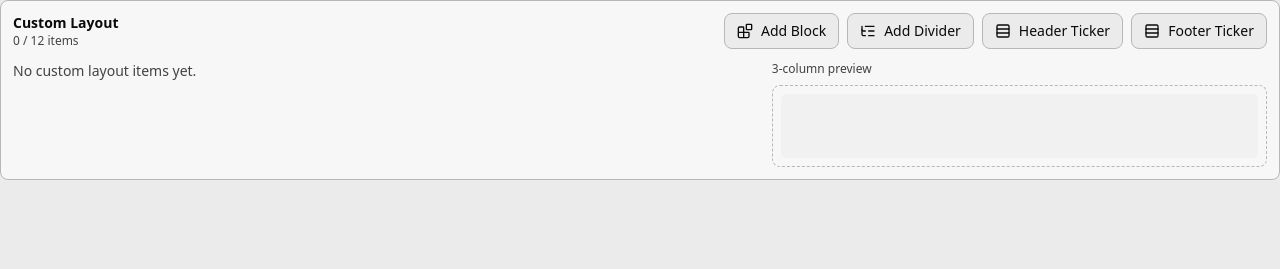
Test: CustomLayoutBuilder — shell › removes an item with the delete button
Click the button with test id "settings-custom-layout-add-divider".
click(911, 31)  # box [847, 13, 974, 49]
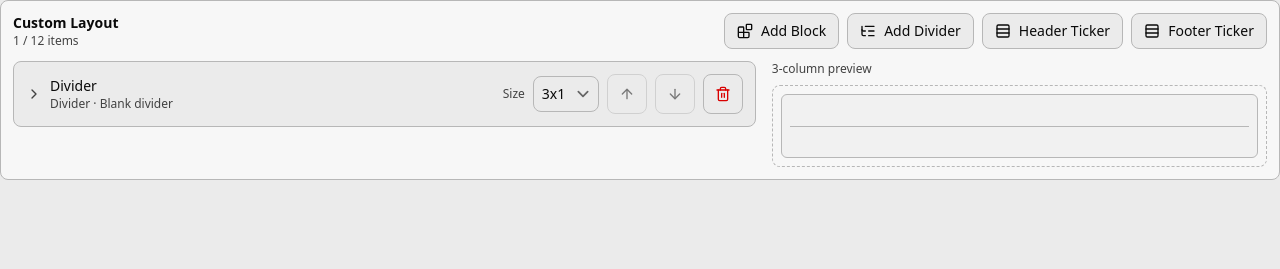
Click the button with test id "settings-custom-layout-add-divider".
click(911, 31)  # box [847, 13, 974, 49]
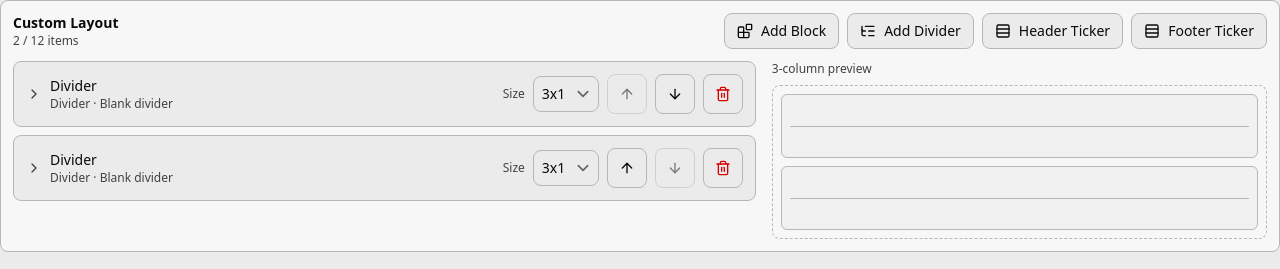
Click the button with test id "settings-custom-layout-remove-item".
click(723, 94)  # box [703, 74, 743, 114]
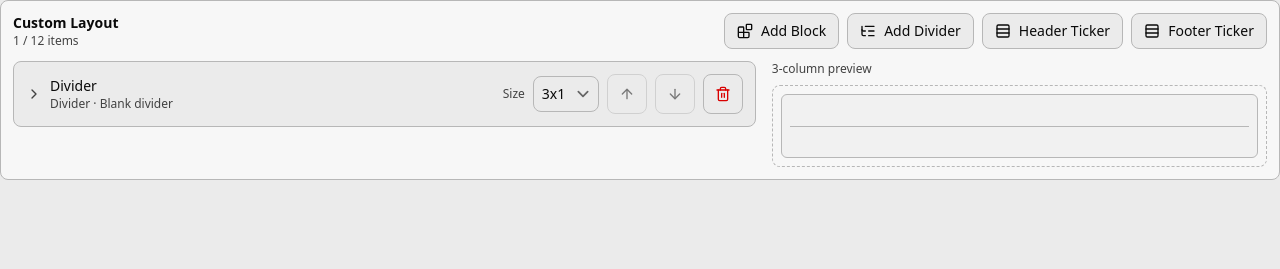
Result: the number of list items with test id "settings-custom-layout-item" is 1 at [13, 61, 756, 127]
Result: the text with test id "settings-custom-layout-count" reads "1 / 12 items" at [13, 32, 79, 49]
